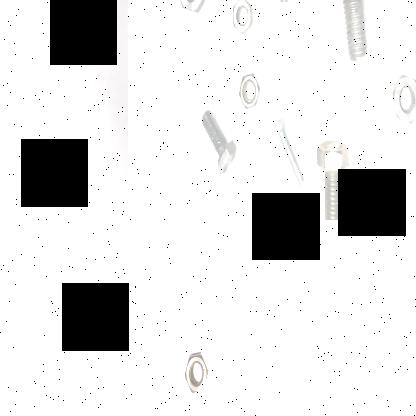Bolts: (309, 132, 353, 220), (200, 99, 238, 179), (270, 108, 306, 192), (332, 0, 375, 65)
NUTS: (384, 64, 416, 128), (236, 63, 265, 110), (229, 0, 257, 43), (184, 351, 208, 395), (171, 0, 213, 18)
